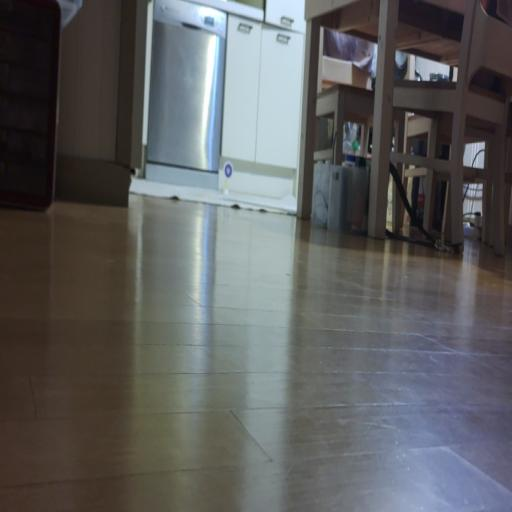target: (223, 161, 234, 179)
